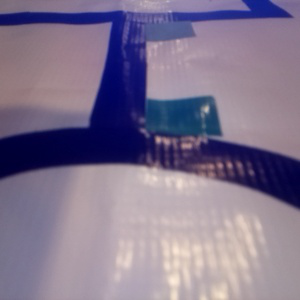bottom_right: (112, 11, 221, 54)
top_right: (89, 75, 262, 165)
